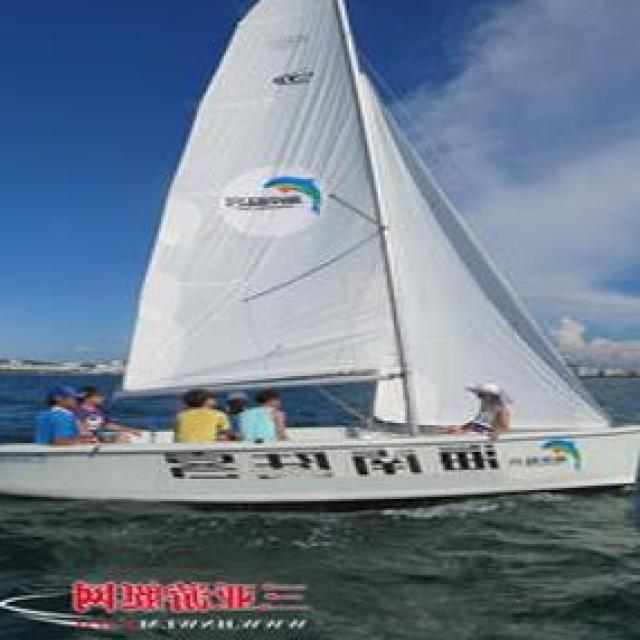sailboat: (0, 0, 640, 497)
